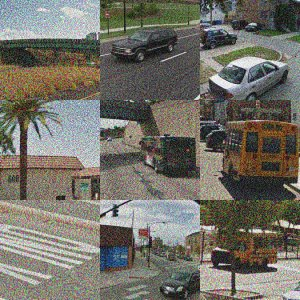汽車: (100, 31, 199, 99), (48, 51, 76, 80), (46, 159, 76, 180), (16, 58, 44, 79), (14, 155, 38, 171), (41, 256, 56, 268)
紅綠燈: (159, 199, 176, 216), (117, 204, 130, 220)
自行車: (120, 122, 166, 156)
